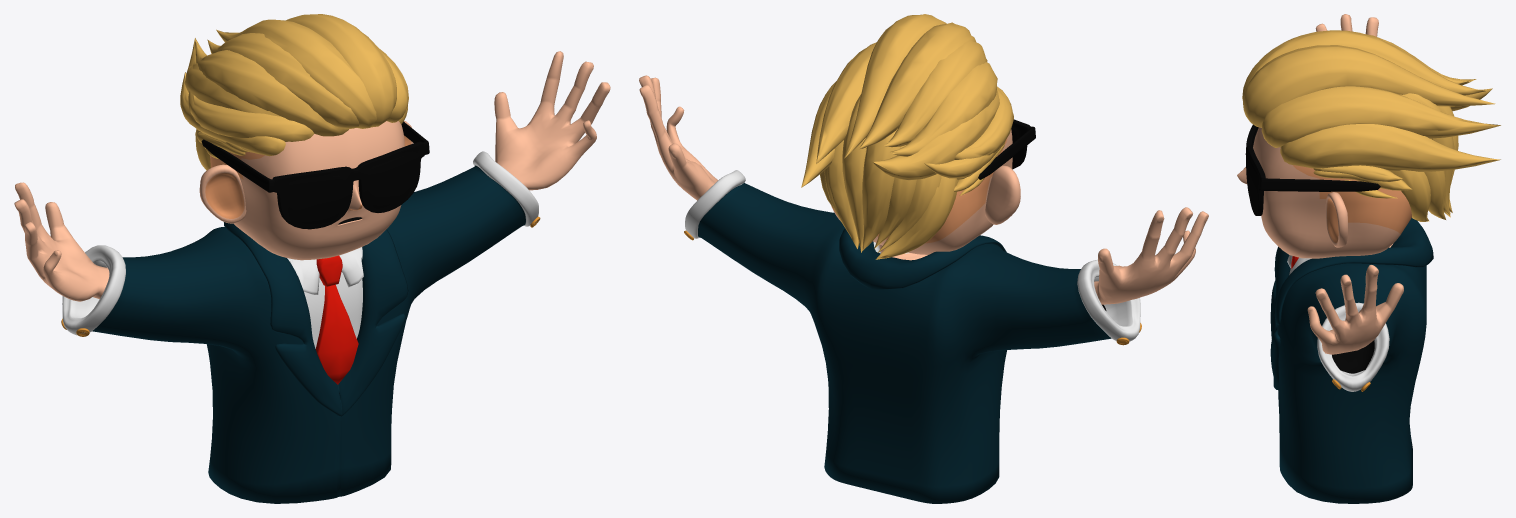
Rendered from WSB.fbx.
The picture shows the model from 3 angles, left to right: view 1: azimuth 30°, elevation 25°; view 2: azimuth 150°, elevation 25°; view 3: azimuth 270°, elevation 25°; orthographic projection. The views are drawn at different scales.
Visible parts, largest first — view 1: Cube; view 2: Cube; view 3: Cube.
Part boxes in pixels (x1,y1,x2,y2): Cube: [14, 14, 610, 503]; Cube: [639, 14, 1208, 503]; Cube: [1237, 14, 1500, 503].
Bounding box in the file's own units: 840 × 624 × 349.
